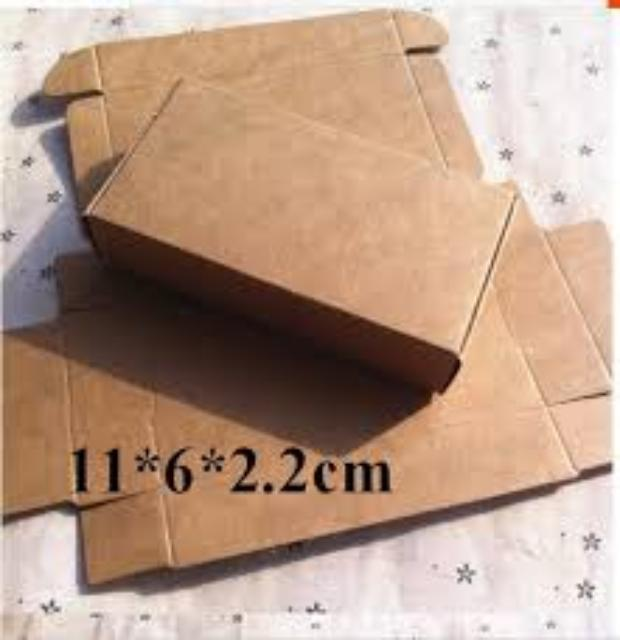cardboard paper: (3, 8, 609, 581)
